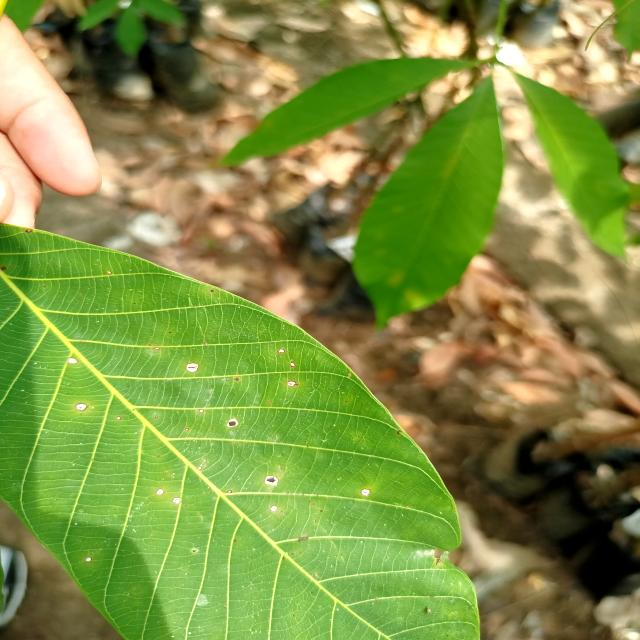Colletotrichum: (186, 363, 199, 372), (76, 403, 87, 411), (68, 357, 78, 364), (360, 489, 370, 495), (288, 381, 297, 386), (86, 557, 92, 562), (278, 349, 285, 353), (290, 363, 295, 367), (199, 409, 204, 413), (26, 230, 32, 233), (117, 416, 121, 420), (198, 466, 201, 470), (228, 490, 232, 493), (156, 347, 160, 350), (108, 271, 111, 274), (268, 401, 272, 403), (203, 459, 207, 461), (185, 428, 189, 430), (155, 416, 158, 418), (211, 290, 214, 292), (312, 503, 314, 505)
